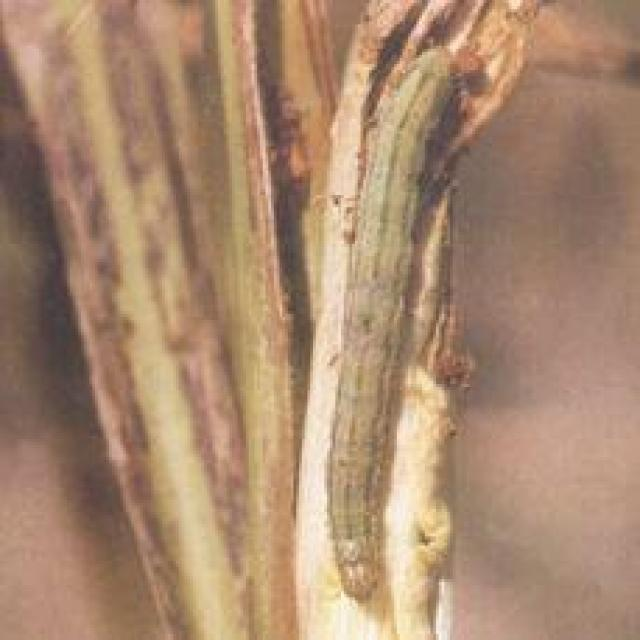BeetArmyWorm-Larva-: (322, 43, 467, 611)
